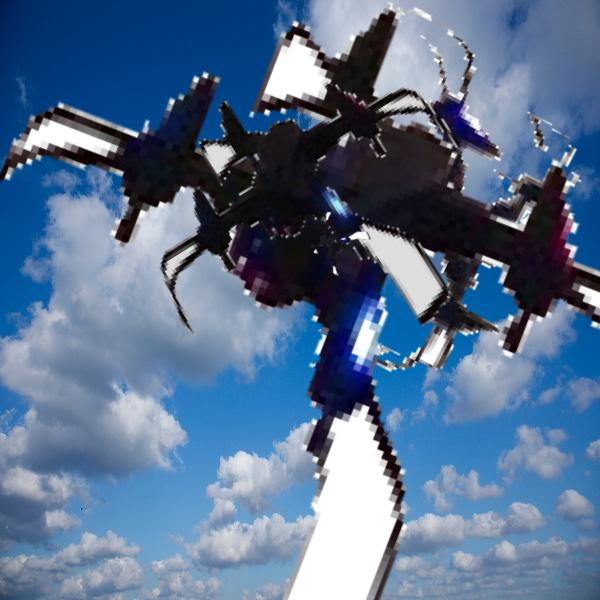drone: (226, 7, 597, 378), (141, 58, 484, 401), (309, 212, 378, 281)
